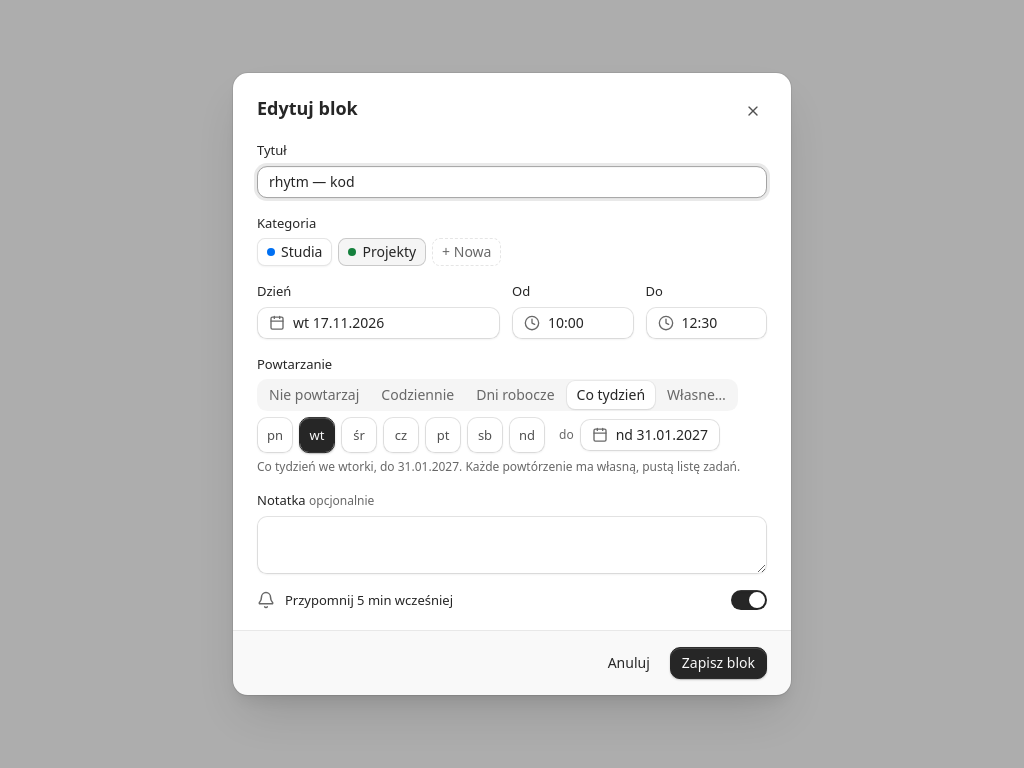
Scenario: BlockDialog › sama zmiana godzin zostawia „Tylko to wystąpienie” dostępne
Click the button named "Od" at (573, 323), box [512,307,634,339]
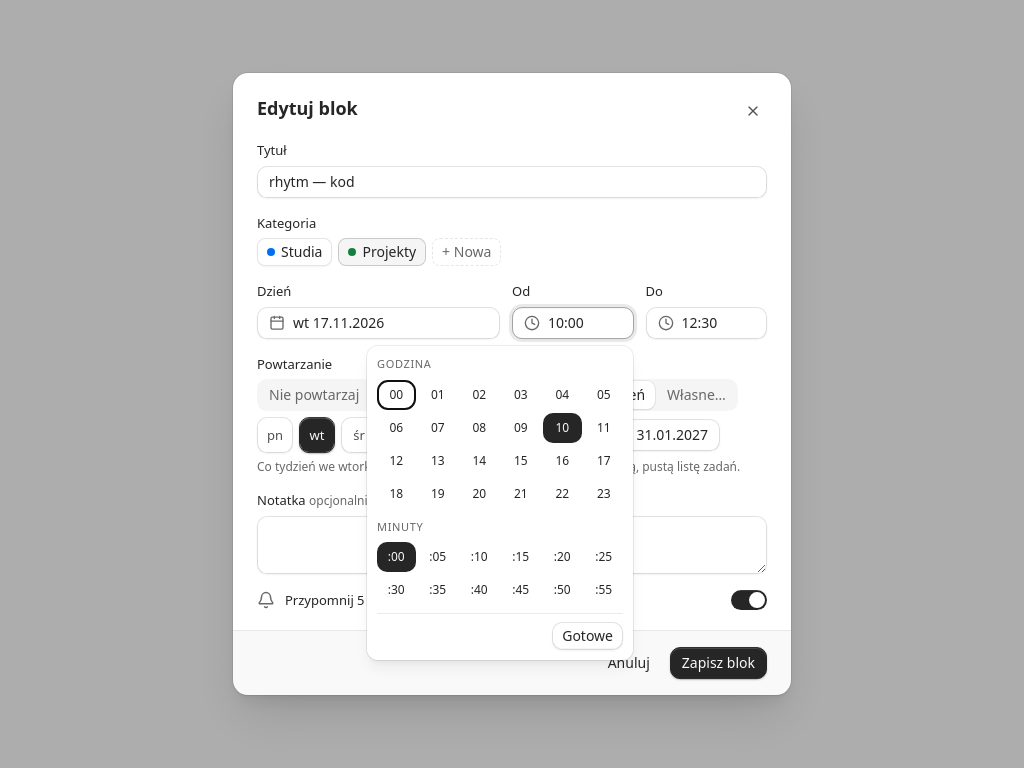
Click the button "11" at (604, 428), box [584,413,623,443]
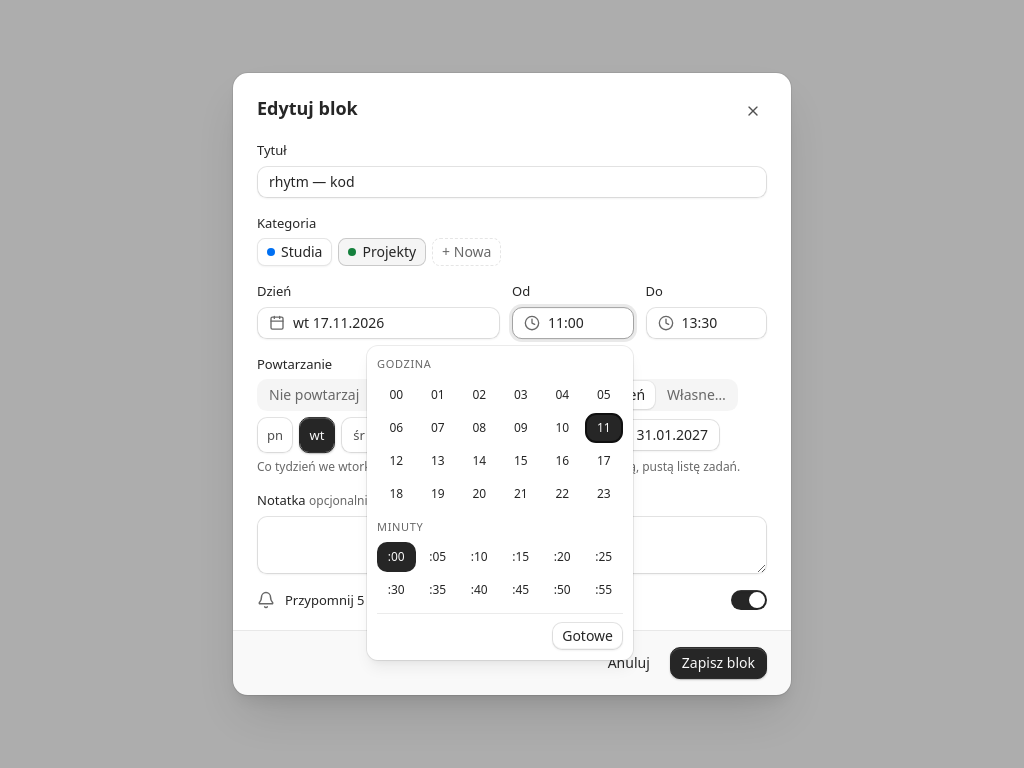
Click the button ":00" at (396, 557), box [377,542,416,572]
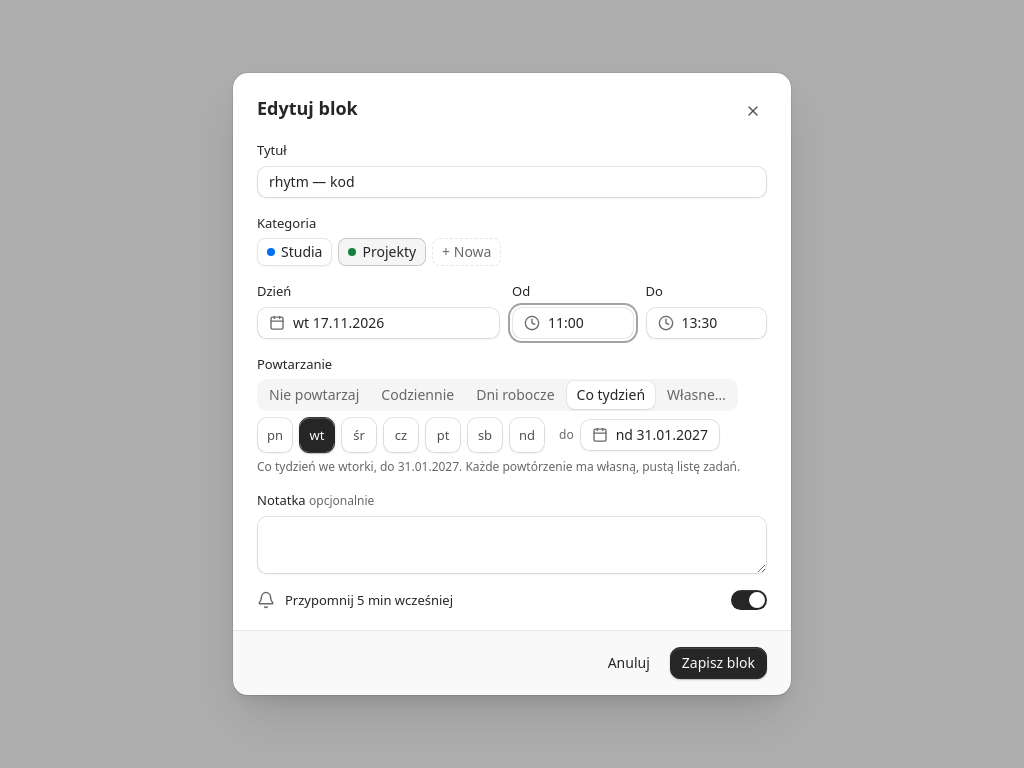
Click the button "Zapisz blok" at (718, 663), box [670,647,767,679]
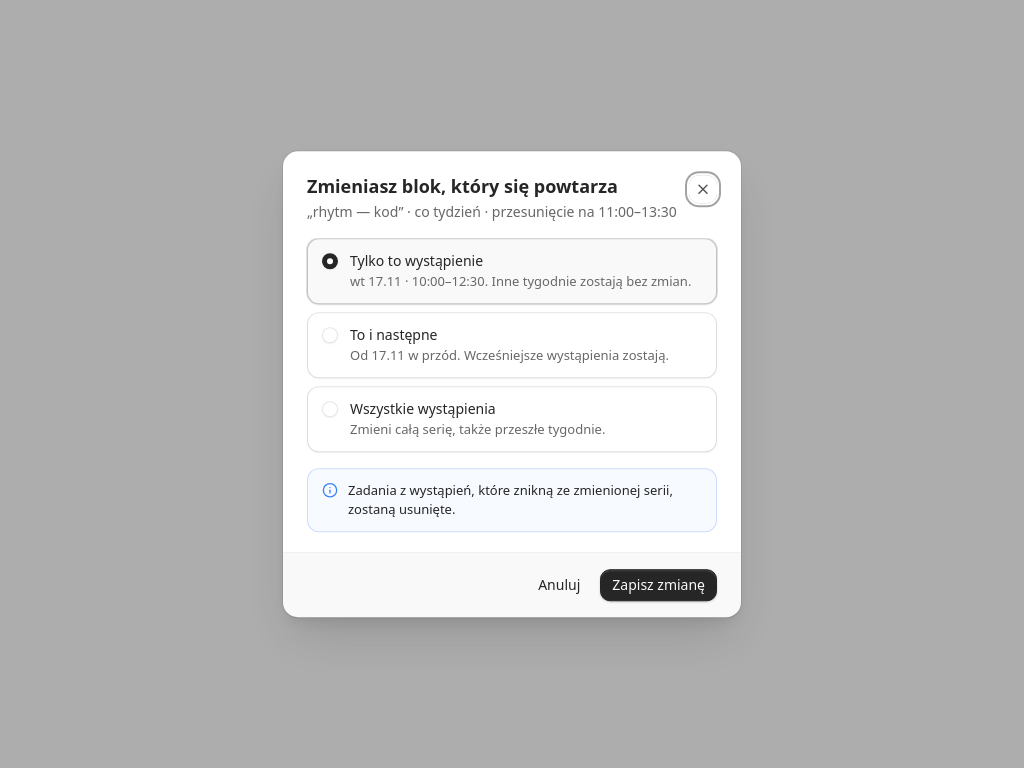
Now the radio button labelled "Tylko to wystąpienie" is enabled, box [322,254,338,270]
